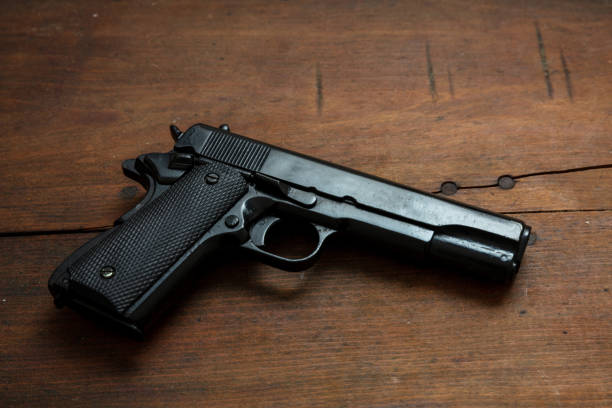gun: (44, 120, 532, 346)
